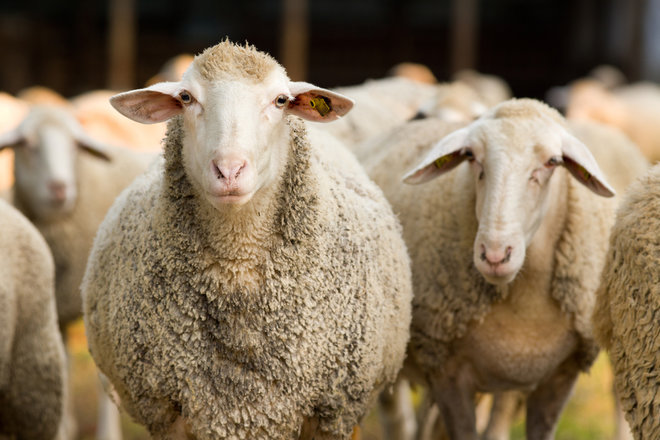sheep: (82, 46, 390, 440), (397, 108, 597, 420), (2, 76, 110, 334)
